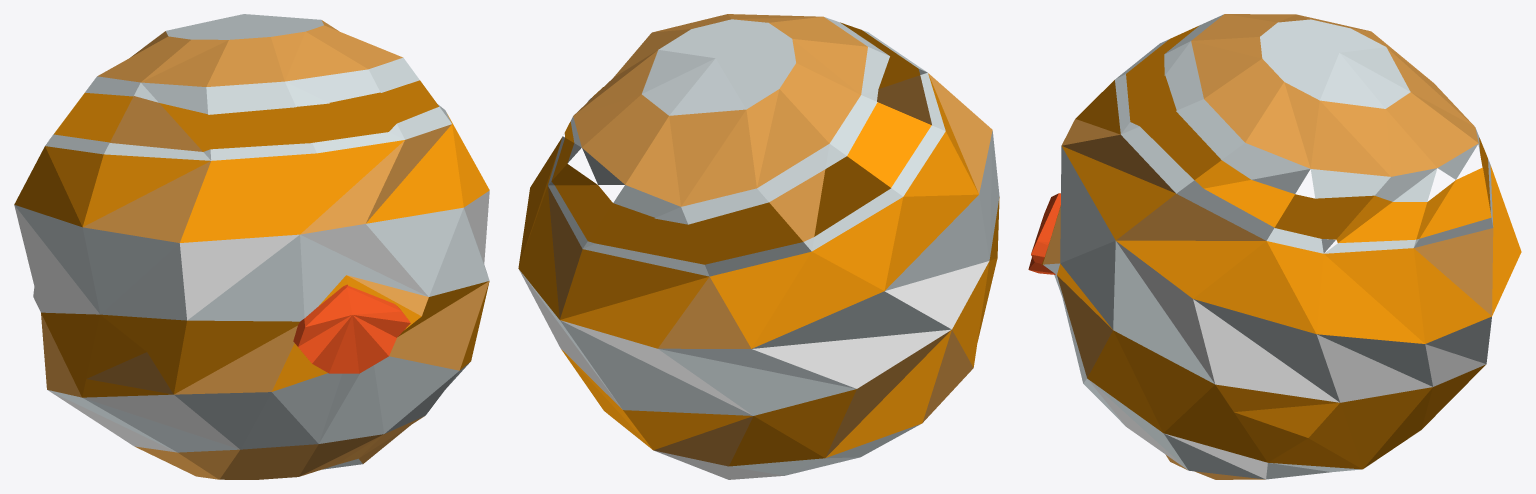
Rendered from scene_xakBuSfd6Q.glb.
3 renders of one model, left to right at view 1: azimuth 30°, elevation 25°; view 2: azimuth 150°, elevation 25°; view 3: azimuth 270°, elevation 25°, orthographic.
Parts seen in each view (by area): view 1: Node; view 2: Node; view 3: Node.
Boxes of the visible parts, x1,y1,x2,y2 form: Node: (14,14,489,479); Node: (518,14,999,479); Node: (1028,14,1521,479).
Bounding box in the file's own units: 1.15 × 1.15 × 1.19.
